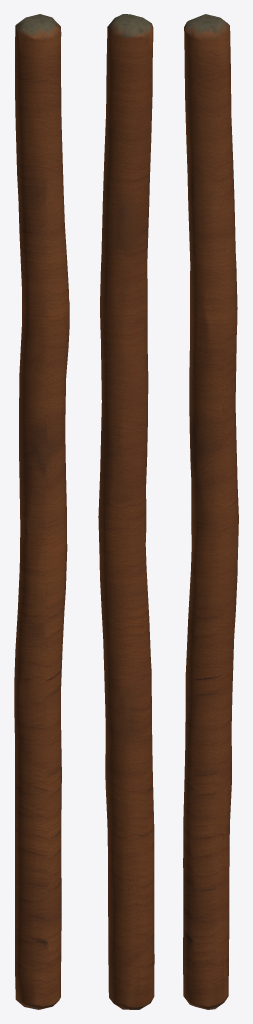
Rendered from Wooden_Stick.glb.
3 views of the same model, side by side, from view 1: azimuth 30°, elevation 25°; view 2: azimuth 150°, elevation 25°; view 3: azimuth 330°, elevation 25° (orthographic).
Size of the model in its own units: 0.099 by 1.91 by 0.0896.
1 material, 1 textured.
